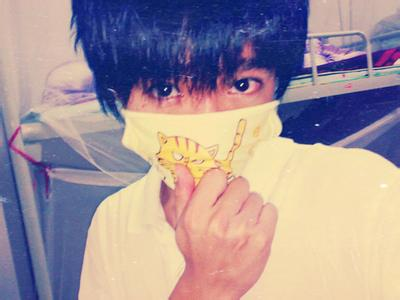face_mask: (121, 47, 280, 188)
